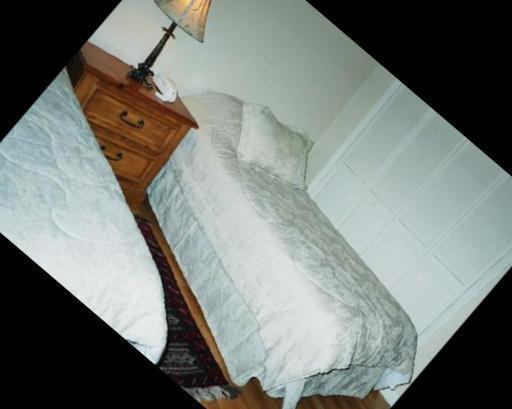Armario: (289, 82, 512, 330)
